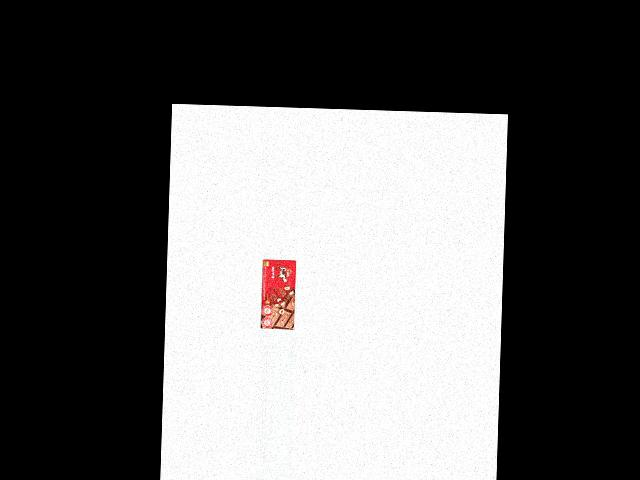chocolate: (259, 258, 296, 329)
